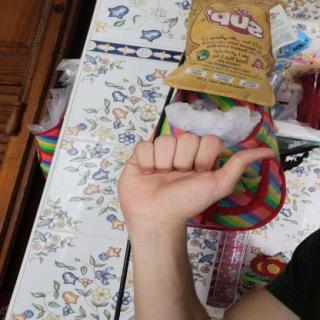DAD: (107, 128, 284, 234)
